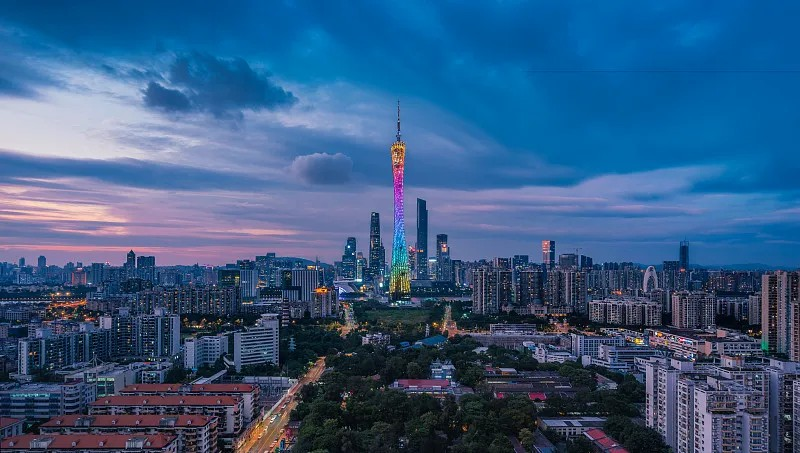Canton: (387, 99, 414, 297)
